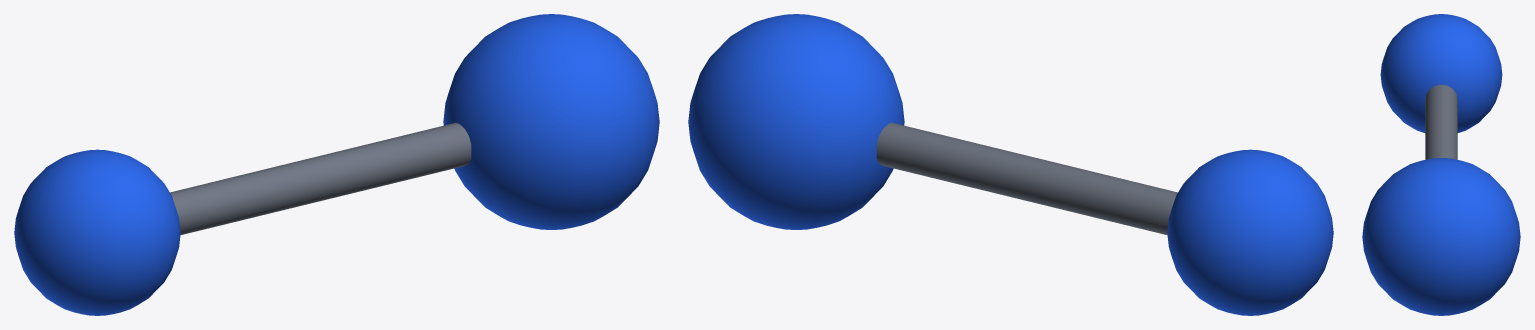
The picture shows the model from 3 angles, left to right: view 1: azimuth 30°, elevation 25°; view 2: azimuth 150°, elevation 25°; view 3: azimuth 270°, elevation 25°; orthographic projection. The views are drawn at different scales.
Parts seen in each view (by area): view 1: F1, H1, object 3; view 2: F1, H1, object 3; view 3: F1, H1, object 3.
Boxes of the visible parts, x1,y1,x2,y2 form: F1: (443, 14, 659, 229); H1: (14, 149, 180, 315); object 3: (170, 122, 471, 235); F1: (688, 14, 904, 229); H1: (1167, 149, 1333, 315); object 3: (876, 122, 1177, 235); F1: (1362, 158, 1520, 315); H1: (1380, 14, 1502, 132); object 3: (1425, 85, 1457, 159).
Bounding box in the file's own units: 0.258 × 0.078 × 0.078.
